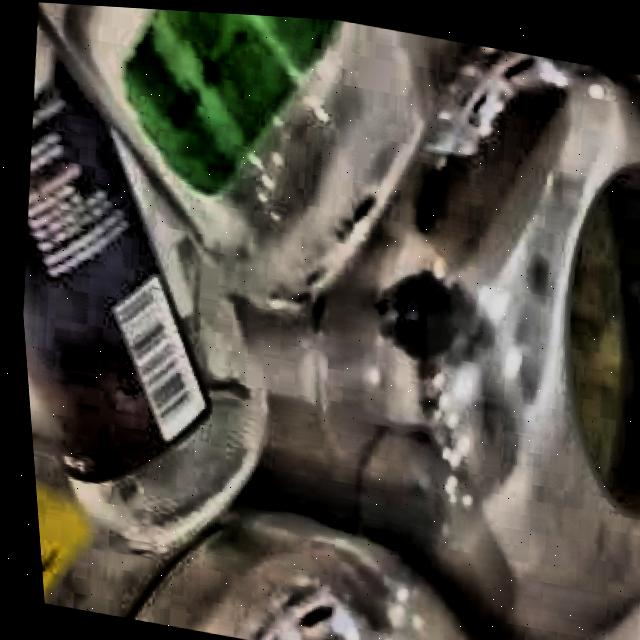glass: (17, 2, 423, 538)
